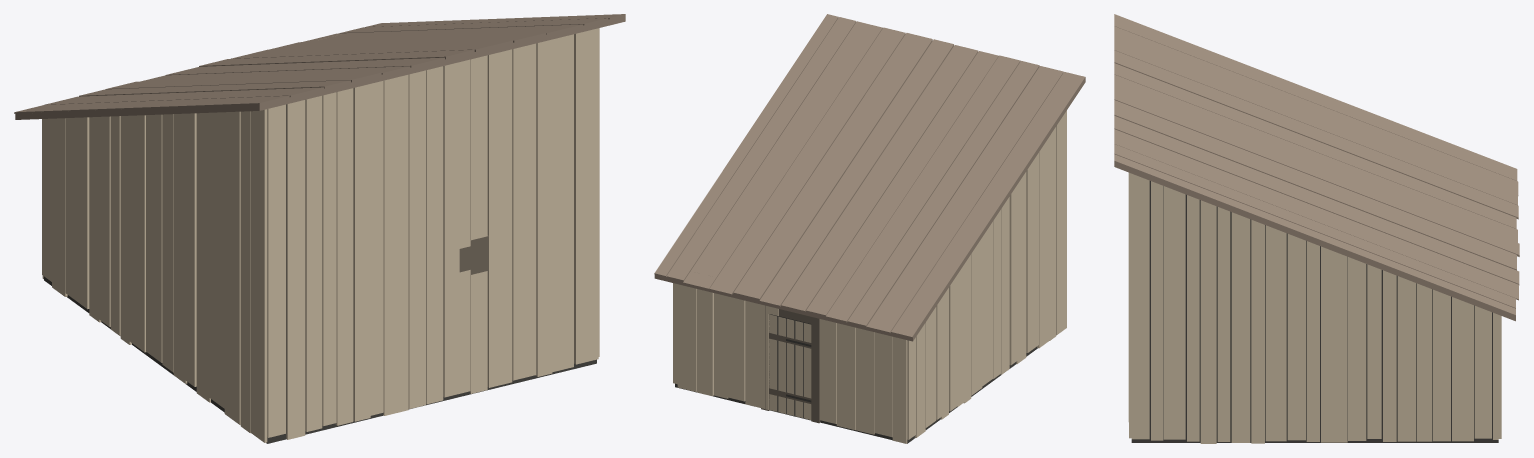
File: recon_1835_north_d2_003__inferred_1835.glb
3 renders of one model, left to right at view 1: azimuth 30°, elevation 25°; view 2: azimuth 150°, elevation 25°; view 3: azimuth 270°, elevation 25°, orthographic. The views are drawn at different scales.
Parts seen in each view (by area): view 1: recon_1835_north_d2_003__inferred_1835; view 2: recon_1835_north_d2_003__inferred_1835; view 3: recon_1835_north_d2_003__inferred_1835.
Boxes of the visible parts, x1,y1,x2,y2 form: recon_1835_north_d2_003__inferred_1835: (14,14,625,443); recon_1835_north_d2_003__inferred_1835: (654,14,1085,443); recon_1835_north_d2_003__inferred_1835: (1114,14,1519,443).
Size of the model in its own units: 5.22 by 4.82 by 6.09.
